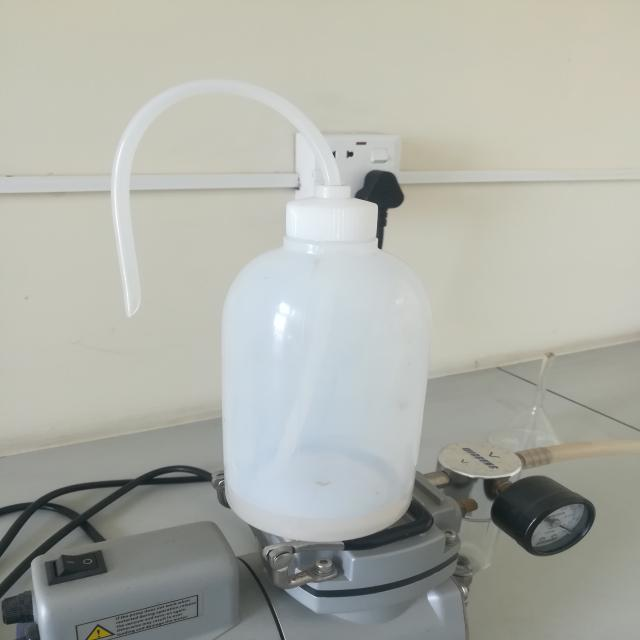Wash_Bottle: (86, 63, 468, 568)
